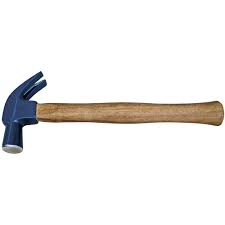martillu: (2, 70, 225, 154)
